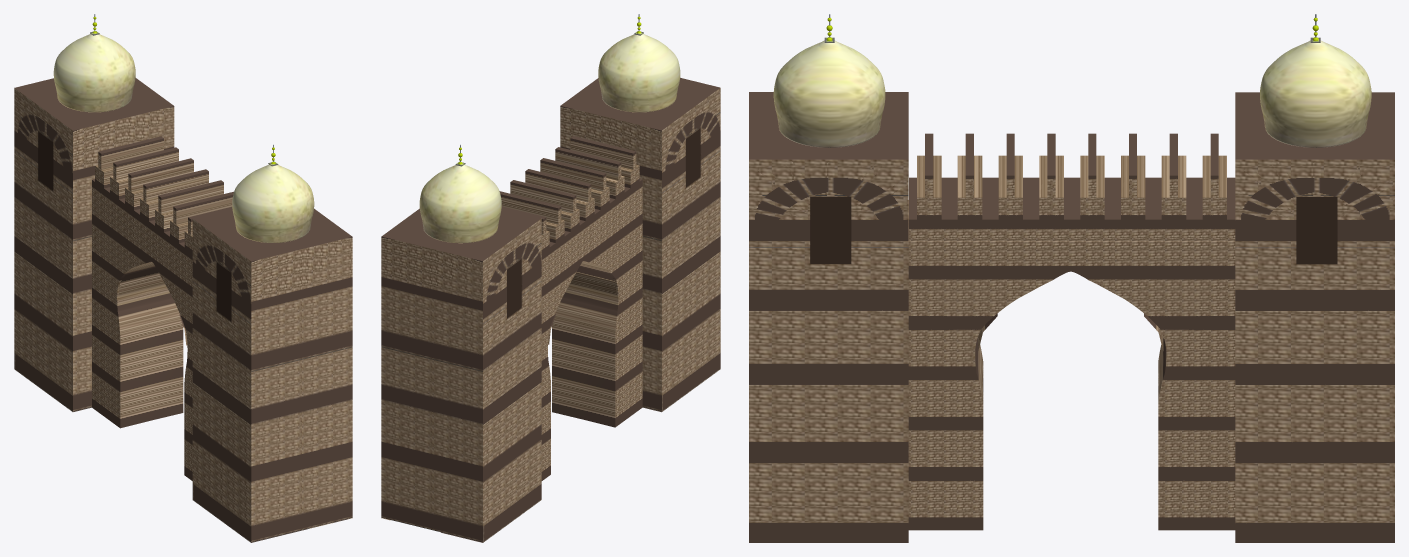
The model's file is Persian_wall_entrance.fbx.
3 views of the same model, side by side, from view 1: azimuth 30°, elevation 25°; view 2: azimuth 150°, elevation 25°; view 3: azimuth 270°, elevation 25° (orthographic). The views are drawn at different scales.
Parts seen in each view (by area): view 1: Cube_001, porta, Cube_000, cupula2_000, cupula2_001; view 2: Cube_000, porta, Cube_001, cupula2_001, cupula2_000; view 3: porta, Cube_000, Cube_001, cupula2_001, cupula2_000.
Boxes of the visible parts, <box> form: Cube_001: <box>192,208,352,542</box>; porta: <box>92,136,233,480</box>; Cube_000: <box>14,78,174,411</box>; cupula2_000: <box>53,14,135,112</box>; cupula2_001: <box>232,144,314,242</box>; Cube_000: <box>381,208,541,542</box>; porta: <box>499,136,642,480</box>; Cube_001: <box>560,77,720,412</box>; cupula2_001: <box>598,14,680,112</box>; cupula2_000: <box>419,144,501,243</box>; porta: <box>908,133,1235,530</box>; Cube_000: <box>1235,92,1394,542</box>; Cube_001: <box>749,92,908,542</box>; cupula2_001: <box>773,14,885,147</box>; cupula2_000: <box>1260,14,1371,147</box>.
Bounding box in the file's own units: 2.65 × 9.05 × 10.69.
